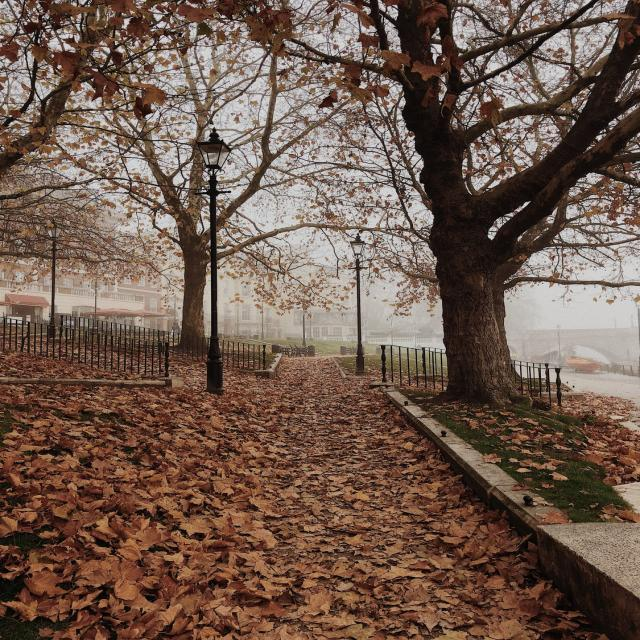organic waste: (2, 390, 300, 579), (2, 581, 564, 633), (305, 456, 467, 574), (319, 398, 381, 432)
